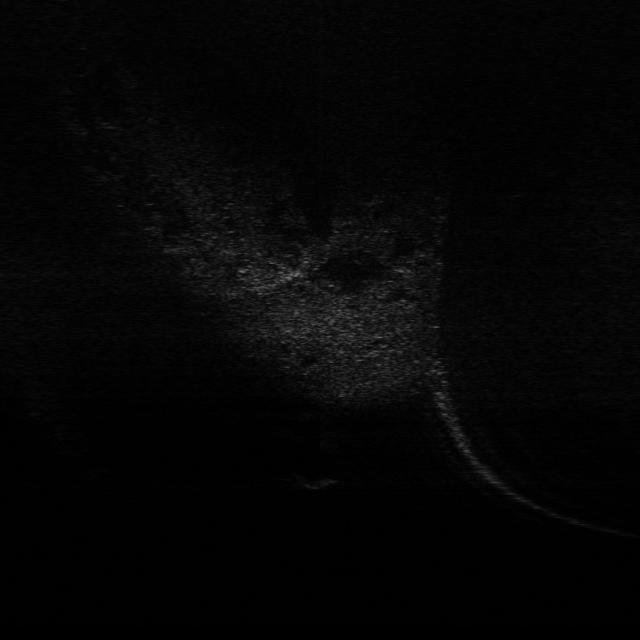cube: (290, 472, 336, 489)
